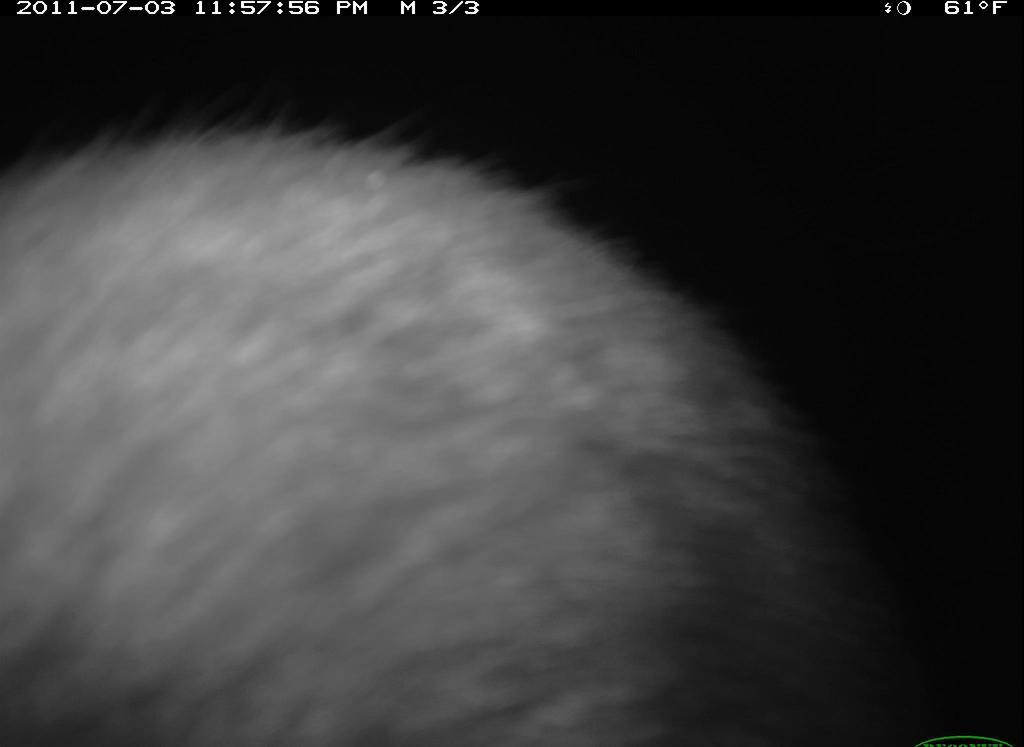raccoon: (1, 105, 931, 747)
